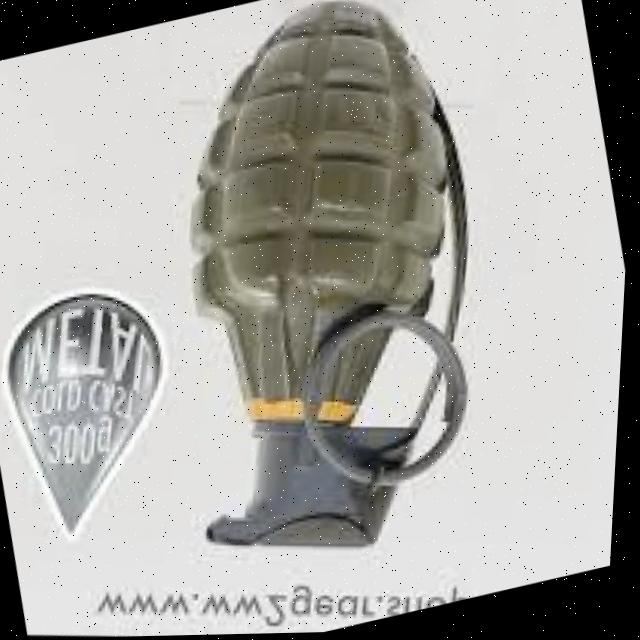grenade: (62, 0, 612, 619)
